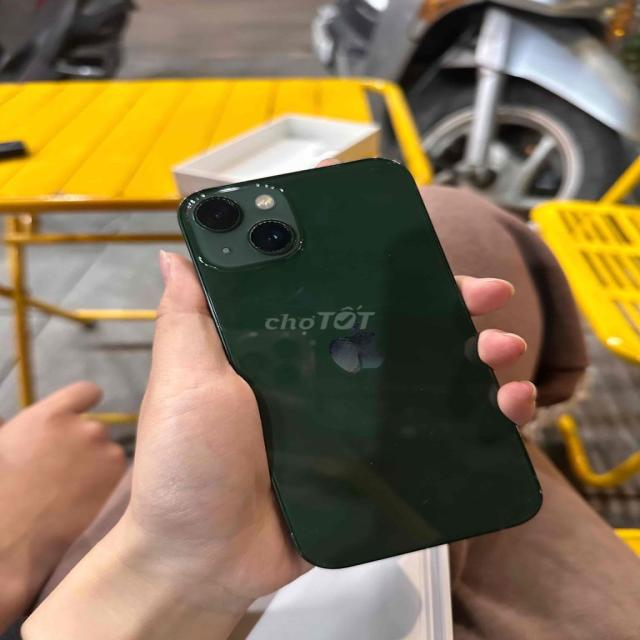gen_12_13: (180, 154, 548, 566)
